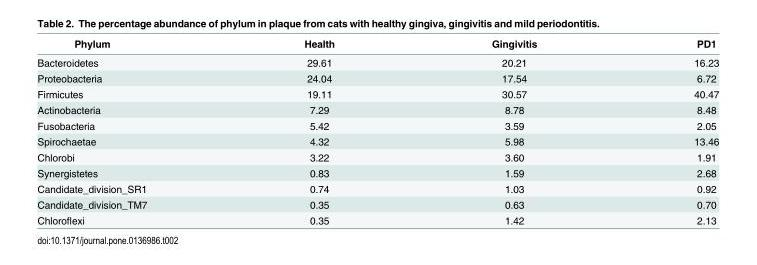table: (36, 37, 718, 225)
table column: (412, 37, 614, 225), (36, 37, 224, 225), (224, 37, 412, 225), (614, 37, 718, 225)
table column header: (36, 37, 718, 52)
table row: (36, 52, 718, 70), (36, 85, 718, 101), (36, 101, 718, 117), (36, 117, 718, 133), (36, 148, 718, 164), (36, 164, 718, 180), (36, 180, 718, 196), (36, 196, 718, 212), (36, 37, 718, 52), (36, 70, 718, 85), (36, 133, 718, 148), (36, 212, 718, 225)
